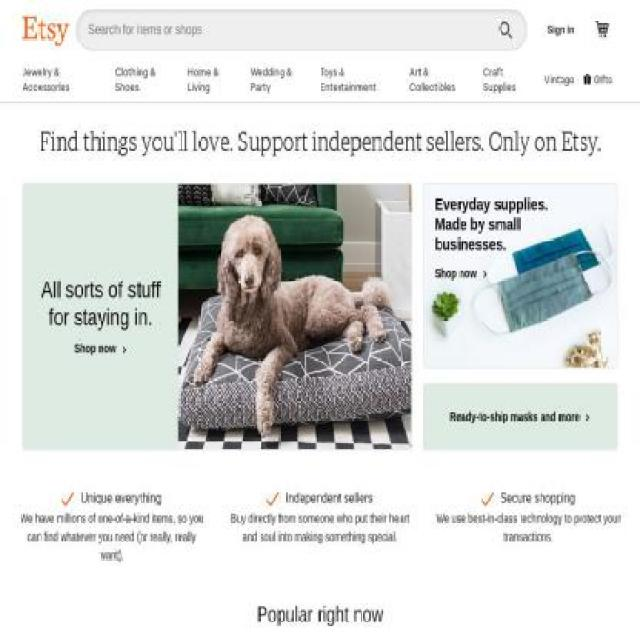button: (22, 183, 412, 451), (22, 63, 107, 94), (320, 63, 403, 94), (114, 63, 180, 94), (410, 63, 476, 94), (250, 63, 313, 94), (482, 63, 538, 94), (188, 63, 243, 94), (538, 14, 584, 46)
field: (76, 10, 489, 50)
